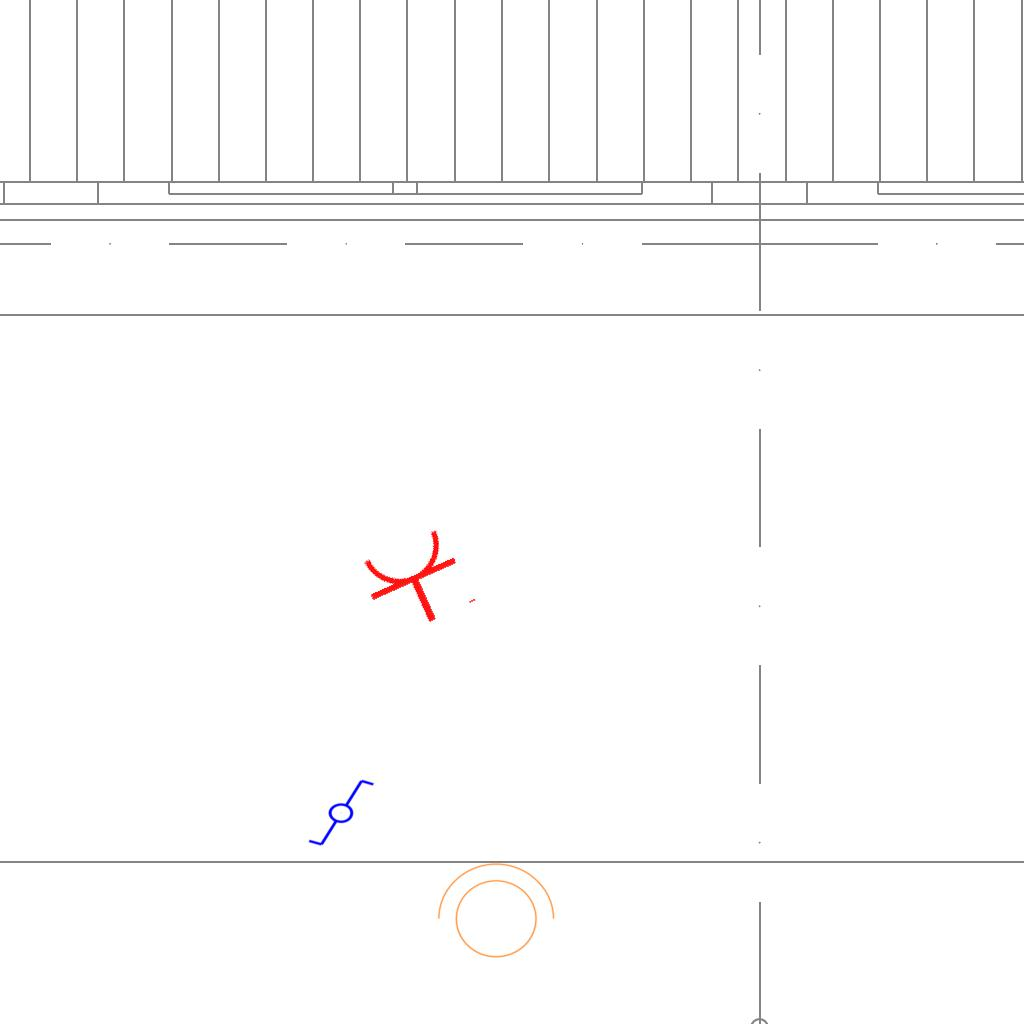Scheinwerfer_fuer_Alarmbeleuchtung: (427, 858, 559, 970)
Schukosteckdose_einfach: (354, 521, 481, 643)
Wechselschalter: (298, 776, 376, 848)
